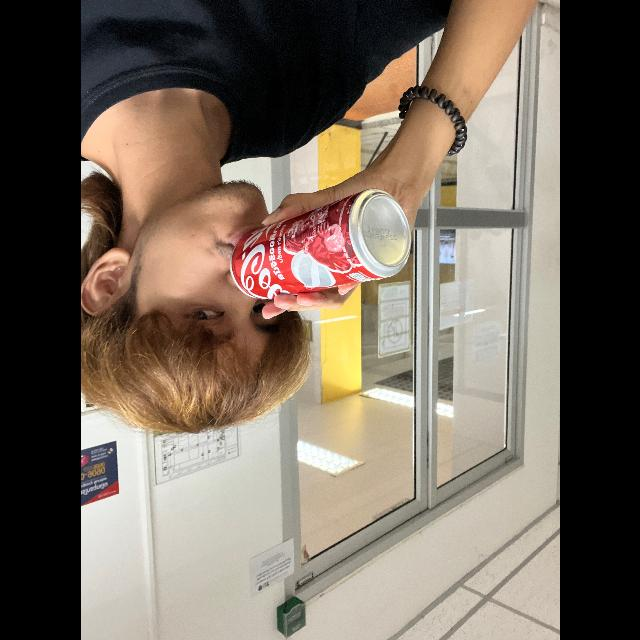can: (220, 185, 416, 308)
